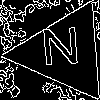N: (39, 27, 83, 75)
